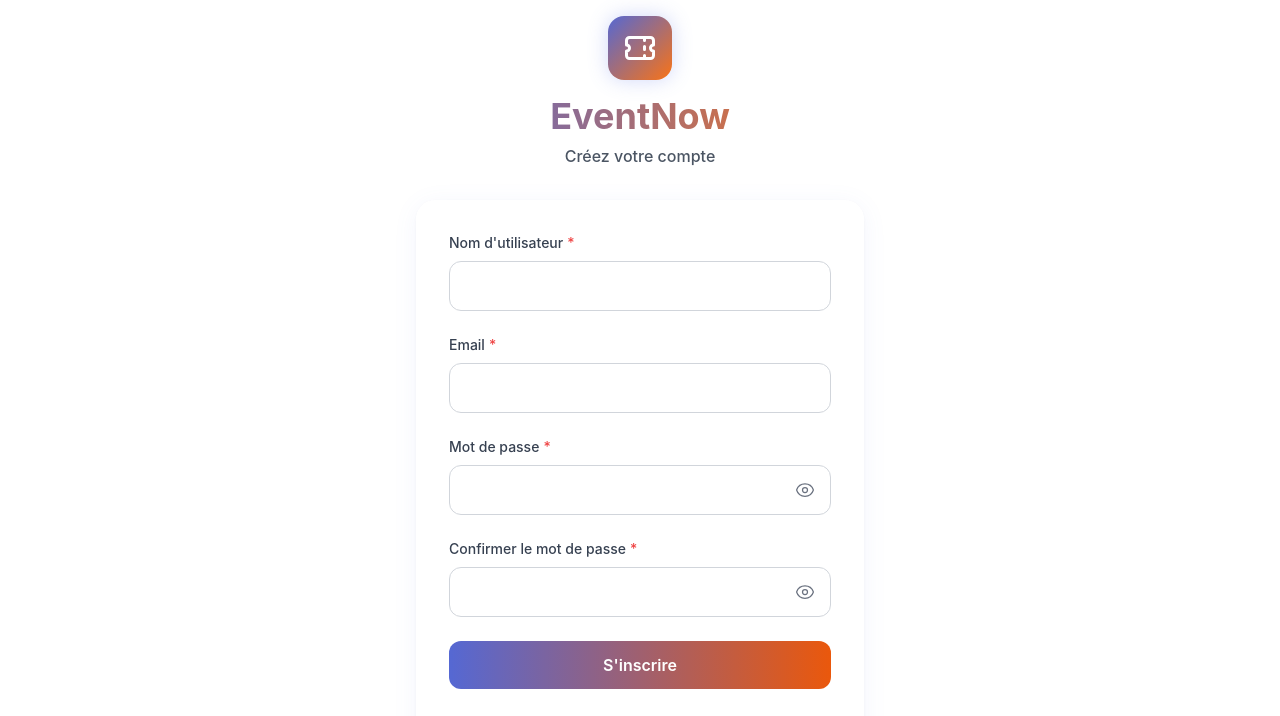
Test case: RegisterPage - rendering › strips invalid characters from the username as the user types
Type "alice!! 123" into the field labelled "Nom d'utilisateur*" at [640, 286], box [449,261,831,311]
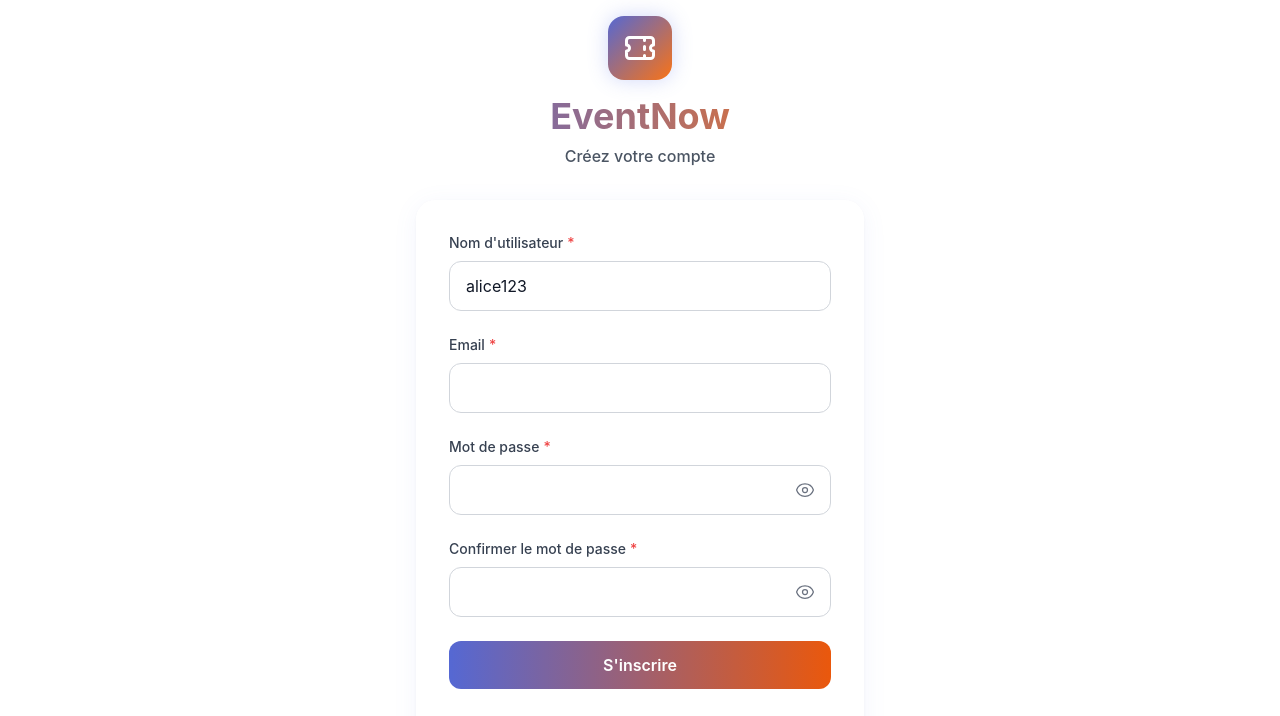
Expected: the field labelled "Nom d'utilisateur*" holds "alice123", [449,261,831,311]
